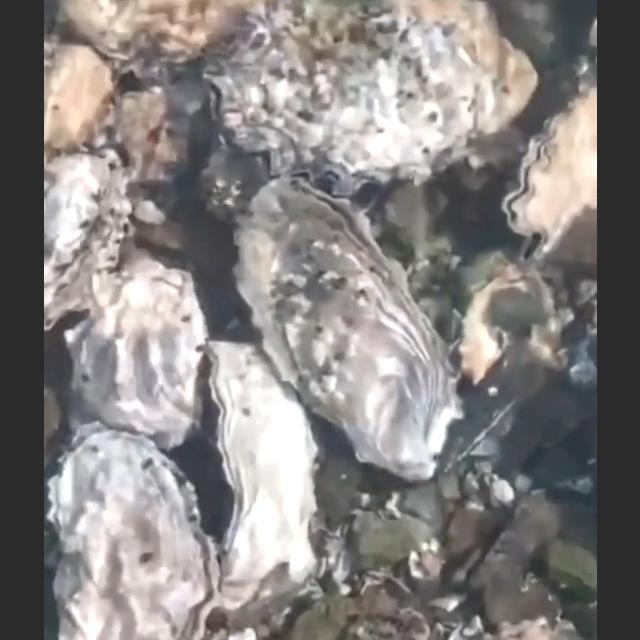Oyster-Closed: (198, 336, 322, 612), (62, 249, 206, 451), (44, 148, 136, 334), (58, 0, 262, 78), (42, 43, 118, 151)
Oyster-Open: (232, 173, 466, 482), (200, 0, 538, 198), (44, 422, 226, 640), (500, 80, 596, 268)
